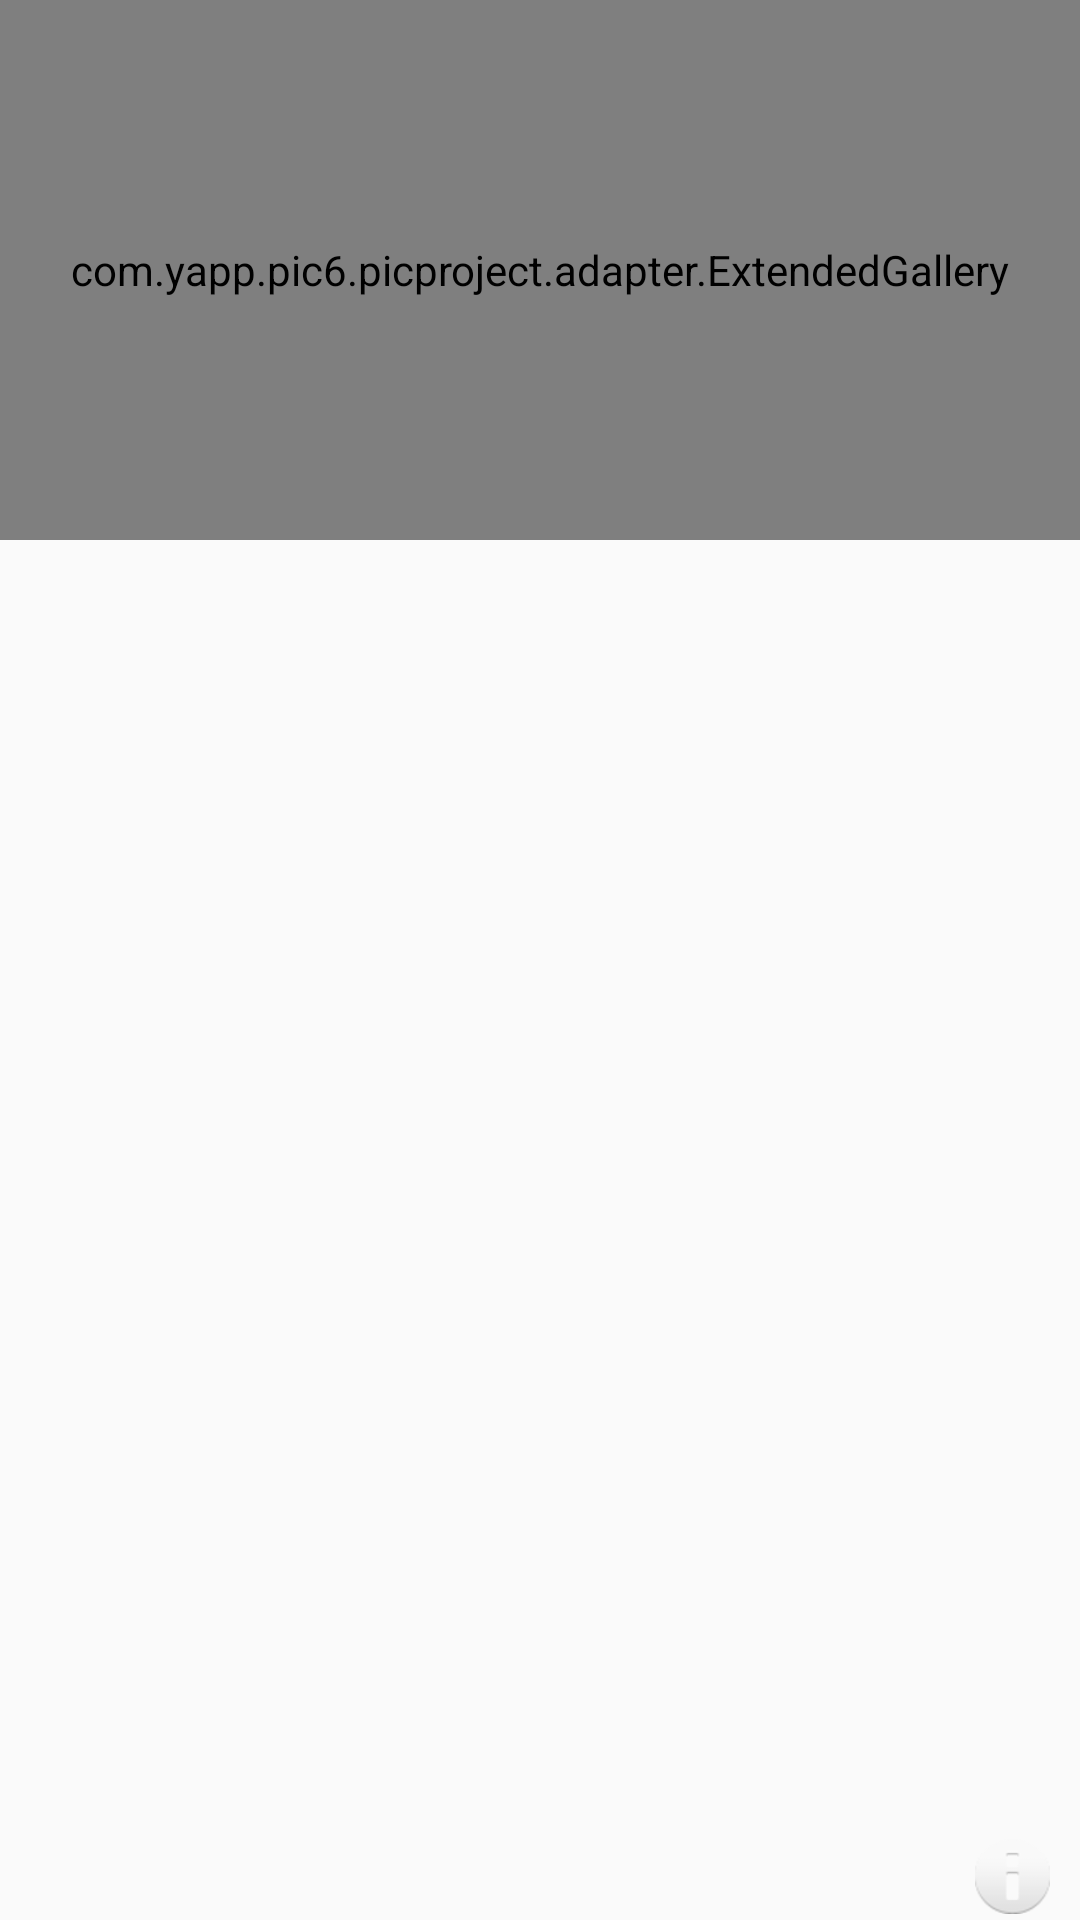

Icon click points for this 1080px x 1920px phone screenshot, format (x,y):
info: (1012,1883)
